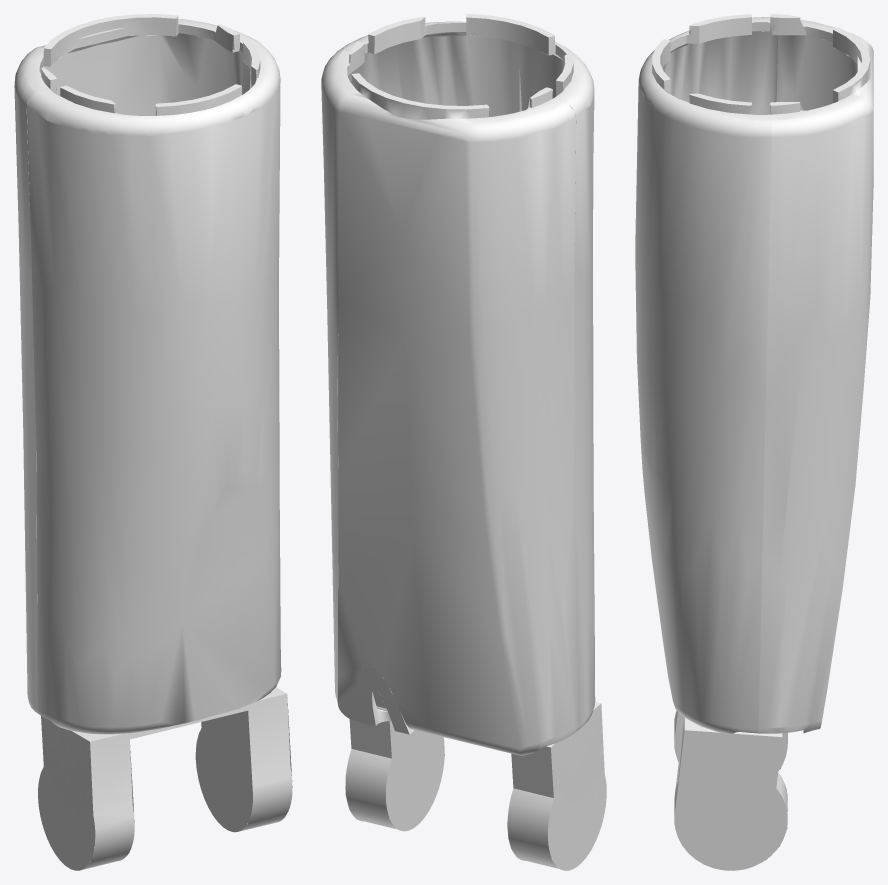
Rendered from forearmtextured.dae.
The picture shows the model from 3 angles, left to right: view 1: azimuth 30°, elevation 25°; view 2: azimuth 150°, elevation 25°; view 3: azimuth 270°, elevation 25°; orthographic projection. The views are drawn at different scales.
Visible parts, largest first — view 1: onderarmversiekrisreducedatenth; view 2: onderarmversiekrisreducedatenth; view 3: onderarmversiekrisreducedatenth.
Part boxes in pixels (x1=…): onderarmversiekrisreducedatenth: x1=14, y1=14, x2=292, y2=870; onderarmversiekrisreducedatenth: x1=321, y1=14, x2=606, y2=870; onderarmversiekrisreducedatenth: x1=635, y1=14, x2=873, y2=870.
Size of the model in its own units: 83.82 by 262 by 74.1.
Materials: 1 (1 with a texture image).
